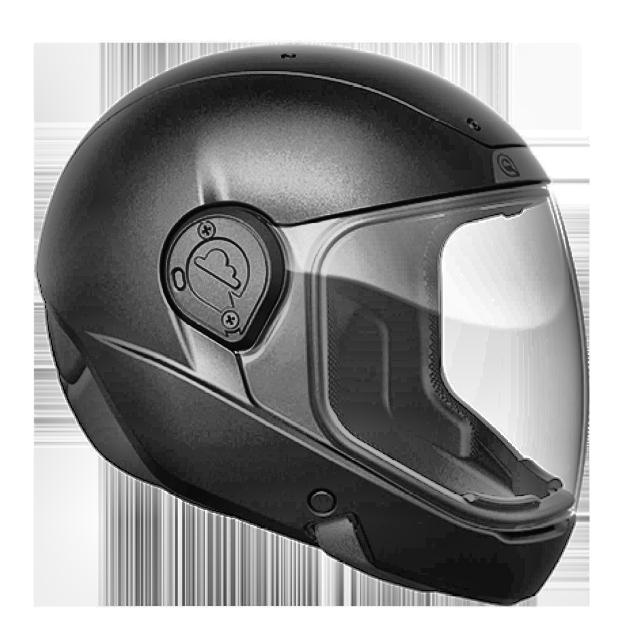Helmet: (27, 31, 622, 598)
